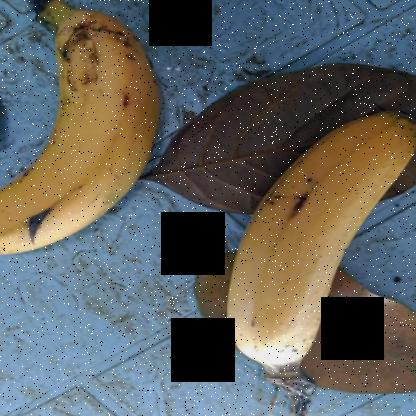freshripe: (211, 84, 415, 374)
ripe: (1, 1, 179, 260)
